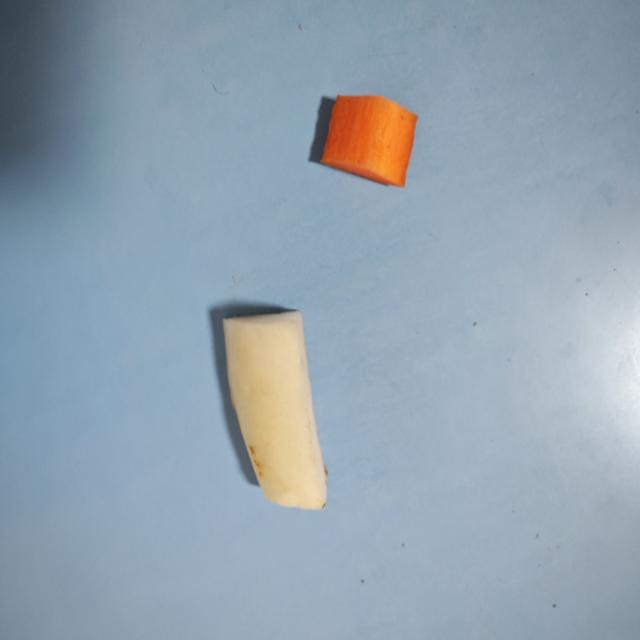-Kitchen waste - carrot-: (317, 89, 422, 190)
-Kitchen waste - white radish-: (223, 311, 335, 511)
